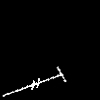treble_crochet: (3, 67, 65, 96)
